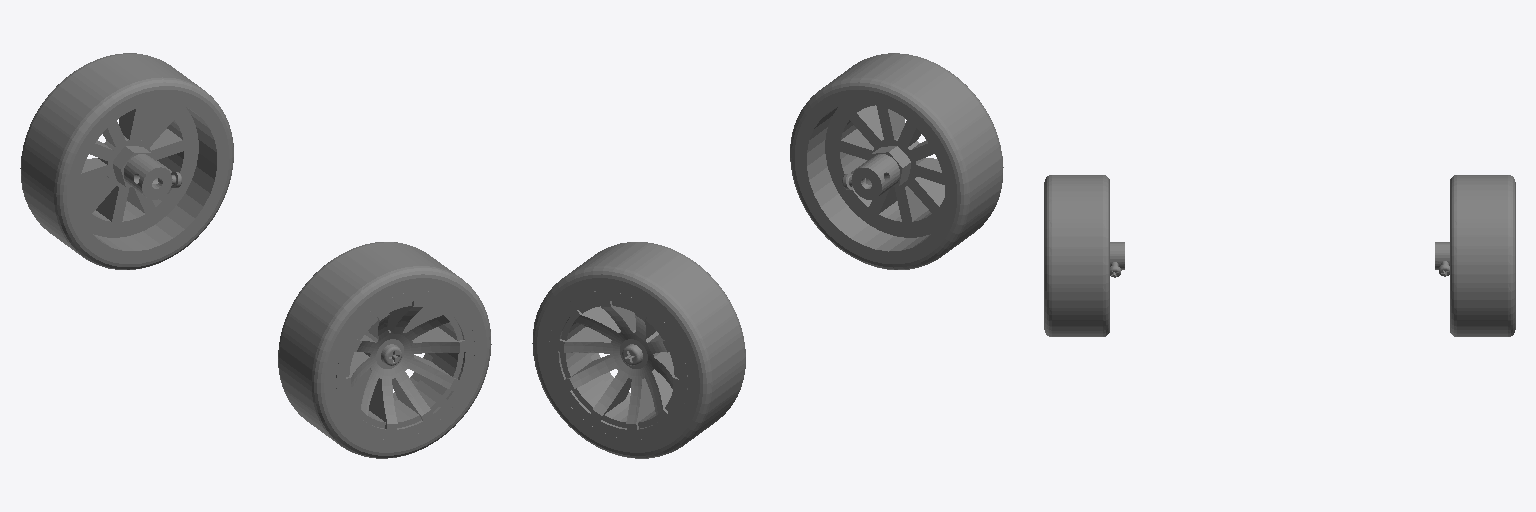
URDF robot description (STM32-V2-V1):
<?xml version="1.0"?>
<robot name="STM32-V2-V1">

  <link name="base_footprint">
    <inertial>
      <mass value="0.001"/>
      <origin xyz="0 0 0" rpy="0 0 0"/>
      <inertia ixx="1e-6" ixy="0" ixz="0" iyy="1e-6" iyz="0" izz="1e-6"/>
    </inertial>
  </link>

  <joint name="base_footprint_joint" type="fixed">
    <parent link="base_footprint"/>
    <child link="base_link"/>
    <origin xyz="0 0 0.0335" rpy="0 0 0"/>
  </joint>

  <!-- 质量 1.5kg，重心 z=0.08，x/y 完全居中 -->
  <link name="base_link">
    <inertial>
      <origin xyz="0 0 0.08" rpy="0 0 0" />
      <mass value="1.5" />
      <inertia ixx="0.002" ixy="0" ixz="0"
               iyy="0.0015" iyz="0" izz="0.0025" />
    </inertial>
    <visual>
      <origin xyz="0 0 0" rpy="0 0 0" />
      <geometry>
        <mesh filename="package://diff_drive_gazebo/meshes/base_link.STL" />
      </geometry>
      <material name=""><color rgba="0.35 0.35 0.35 1" /></material>
    </visual>
    <collision>
      <origin xyz="0 0 0" rpy="0 0 0" />
      <geometry>
        <mesh filename="package://diff_drive_gazebo/meshes/base_link.STL" />
      </geometry>
    </collision>
  </link>

  <link name="RWheel_Link">
    <inertial>
      <origin xyz="-7.01586313839632E-05 2.36408023752827E-05 0.020662112756469" rpy="0 0 0" />
      <mass value="0.0586429819245853" />
      <inertia ixx="2.30450542160598E-05" ixy="1.51746238628924E-10" ixz="-3.38516692807764E-13"
               iyy="2.30454418604546E-05" iyz="1.62258203290037E-13" izz="4.10136614380478E-05" />
    </inertial>
    <visual>
      <origin xyz="0 0 0" rpy="0 0 0" />
      <geometry><mesh filename="package://diff_drive_gazebo/meshes/RWheel_Link.STL" /></geometry>
      <material name=""><color rgba="0.55 0.55 0.55 1" /></material>
    </visual>
    <collision>
      <origin xyz="0 0 0" rpy="0 0 0" />
      <geometry><mesh filename="package://diff_drive_gazebo/meshes/RWheel_Link.STL" /></geometry>
    </collision>
  </link>

  <joint name="RWheel_Joint" type="continuous">
    <origin xyz="0 -0.064 0" rpy="-1.5708 0 3.1416" />
    <parent link="base_link" />
    <child link="RWheel_Link" />
    <axis xyz="0 0 -1" />
  </joint>

  <link name="LWheel_Link">
    <inertial>
      <origin xyz="7.15288358376486E-05 1.90166807518405E-05 0.0206621127565074" rpy="0 0 0" />
      <mass value="0.0586429819244516" />
      <inertia ixx="2.30450295086075E-05" ixy="-1.21437188655217E-10" ixz="-3.79280835276232E-13"
               iyy="2.30454665679065E-05" iyz="-1.77655810674022E-13" izz="4.10136614380474E-05" />
    </inertial>
    <visual>
      <origin xyz="0 0 0" rpy="0 0 0" />
      <geometry><mesh filename="package://diff_drive_gazebo/meshes/LWheel_Link.STL" /></geometry>
      <material name=""><color rgba="0.55 0.55 0.55 1" /></material>
    </visual>
    <collision>
      <origin xyz="0 0 0" rpy="0 0 0" />
      <geometry><mesh filename="package://diff_drive_gazebo/meshes/LWheel_Link.STL" /></geometry>
    </collision>
  </link>

  <joint name="LWheel_Joint" type="continuous">
    <origin xyz="0 0.064 0" rpy="-1.5708 0 0" />
    <parent link="base_link" />
    <child link="LWheel_Link" />
    <axis xyz="0 0 -1" />
  </joint>

  <link name="Camera_Link">
    <inertial>
      <origin xyz="0.0237939608894814 -0.00604094968678135 -0.000354987365072557" rpy="0 0 0" />
      <mass value="0.0148814712553841" />
      <inertia ixx="2.58332093274823E-06" ixy="-3.28268126125952E-08" ixz="-8.81706889210657E-09"
               iyy="3.64241351092798E-06" iyz="1.09446049153129E-09" izz="1.22892839873897E-06" />
    </inertial>
    <visual>
      <origin xyz="0 0 0" rpy="0 0 0" />
      <geometry><mesh filename="package://diff_drive_gazebo/meshes/Camera_Link.STL" /></geometry>
      <material name=""><color rgba="0.5 0.5 0.5 1" /></material>
    </visual>
    <collision>
      <origin xyz="0 0 0" rpy="0 0 0" />
      <geometry><mesh filename="package://diff_drive_gazebo/meshes/Camera_Link.STL" /></geometry>
    </collision>
  </link>

  <joint name="Camera_Joint" type="revolute">
    <origin xyz="0.055721 0 0.024677" rpy="1.5708 -1.5708 0" />
    <parent link="base_link" />
    <child link="Camera_Link" />
    <axis xyz="0 0 -1" />
    <limit lower="0" upper="1.63" effort="10" velocity="1.0" />
  </joint>

  <gazebo reference="RWheel_Link">
    <mu1>1.5</mu1><mu2>1.5</mu2><kp>1e6</kp><kd>100</kd>
    <minDepth>0.001</minDepth><material>Gazebo/Black</material>
  </gazebo>
  <gazebo reference="LWheel_Link">
    <mu1>1.5</mu1><mu2>1.5</mu2><kp>1e6</kp><kd>100</kd>
    <minDepth>0.001</minDepth><material>Gazebo/Black</material>
  </gazebo>
  <gazebo reference="base_link">
    <mu1>0.1</mu1><mu2>0.1</mu2><kp>1e6</kp><kd>50</kd>
    <minDepth>0.001</minDepth><material>Gazebo/Grey</material>
  </gazebo>

  <gazebo>
    <plugin name="differential_drive_controller" filename="libgazebo_ros_diff_drive.so">
      <ros>
        <namespace>/</namespace>
        <remapping>cmd_vel:=cmd_vel</remapping>
        <remapping>odom:=odom</remapping>
      </ros>
      <left_joint>LWheel_Joint</left_joint>
      <right_joint>RWheel_Joint</right_joint>
      <wheel_separation>0.128</wheel_separation>
      <wheel_diameter>0.067</wheel_diameter>
      <max_wheel_torque>50.0</max_wheel_torque>
      <max_wheel_acceleration>200.0</max_wheel_acceleration>
      <command_topic>cmd_vel</command_topic>
      <odometry_topic>odom</odometry_topic>
      <odometry_frame>odom</odometry_frame>
      <robot_base_frame>base_footprint</robot_base_frame>
      <publish_odom>true</publish_odom>
      <publish_odom_tf>true</publish_odom_tf>
      <publish_wheel_tf>true</publish_wheel_tf>
      <update_rate>100.0</update_rate>
    </plugin>
  </gazebo>

  <gazebo>
    <plugin name="joint_state_publisher" filename="libgazebo_ros_joint_state_publisher.so">
      <ros><namespace>/</namespace></ros>
      <update_rate>30</update_rate>
      <joint_name>RWheel_Joint</joint_name>
      <joint_name>LWheel_Joint</joint_name>
      <joint_name>Camera_Joint</joint_name>
    </plugin>
  </gazebo>

</robot>

--- Facts derived from the render (not from the file) ---
Views: 3 orthographic renders of the robot side by side, from view 1: azimuth 30°, elevation 25°; view 2: azimuth 150°, elevation 25°; view 3: azimuth 270°, elevation 25°.
Robot: STM32-V2-V1 — 5 links, 4 joints (1 revolute, 2 continuous, 1 fixed); root link base_footprint; default pose: every joint at zero.
Visible links, largest first — view 1: LWheel_Link, RWheel_Link; view 2: LWheel_Link, RWheel_Link; view 3: RWheel_Link, LWheel_Link.
Boxes of the visible links, x1,y1,x2,y2 form: LWheel_Link: (20,53,233,269); RWheel_Link: (278,242,491,458); LWheel_Link: (532,242,745,458); RWheel_Link: (790,53,1003,269); RWheel_Link: (1044,175,1124,336); LWheel_Link: (1435,175,1515,336).
Bounding box of the posed robot: 0.067 × 0.194 × 0.067 m (x, y, z).
Meshes: 4 distinct files referenced, 2 mesh visuals loaded (2 binary STL); not drawn: 2 (reference not matched to a file when rendering).
